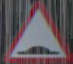Speed Breaker ahead: (7, 5, 62, 55)
